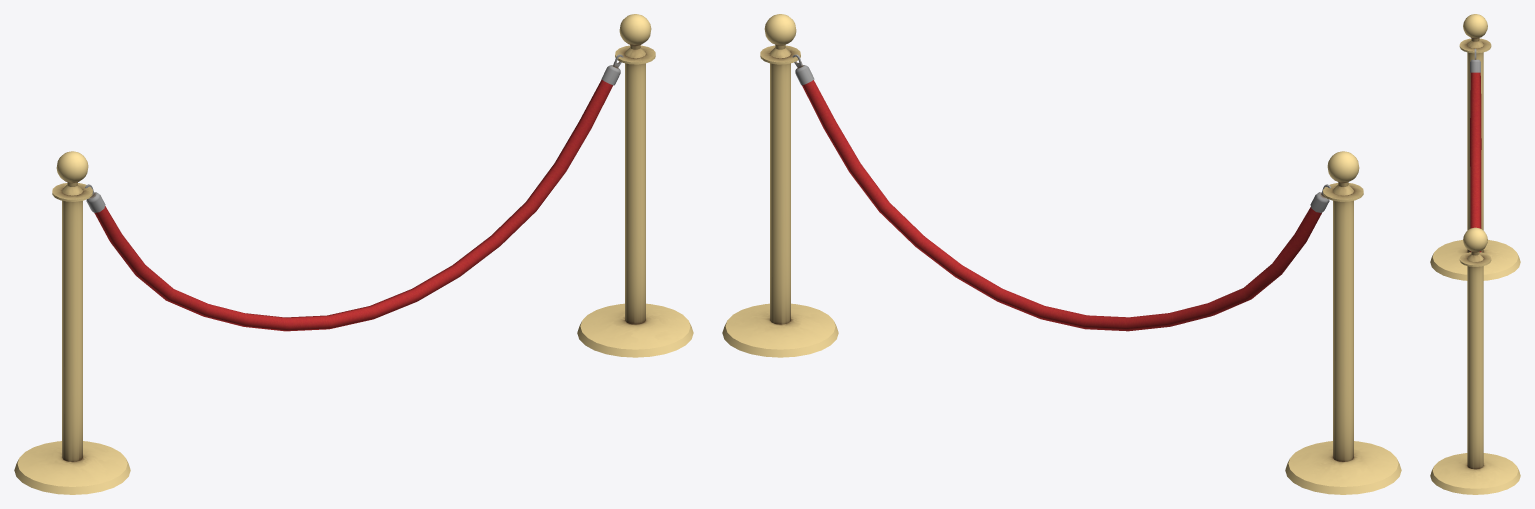
File: rope_barrier.glb
The picture shows the model from 3 angles, left to right: view 1: azimuth 30°, elevation 25°; view 2: azimuth 150°, elevation 25°; view 3: azimuth 270°, elevation 25°; orthographic projection. The views are drawn at different scales.
Visible parts, largest first — view 1: barrier; view 2: barrier; view 3: barrier.
Boxes of the visible parts, box(x1,y1,x2,y2) form: barrier: box(14, 14, 693, 494); barrier: box(722, 14, 1401, 494); barrier: box(1430, 14, 1520, 494).
Size of the model in its own units: 3.59 by 1.64 by 0.5449.
1 material, 1 textured.
